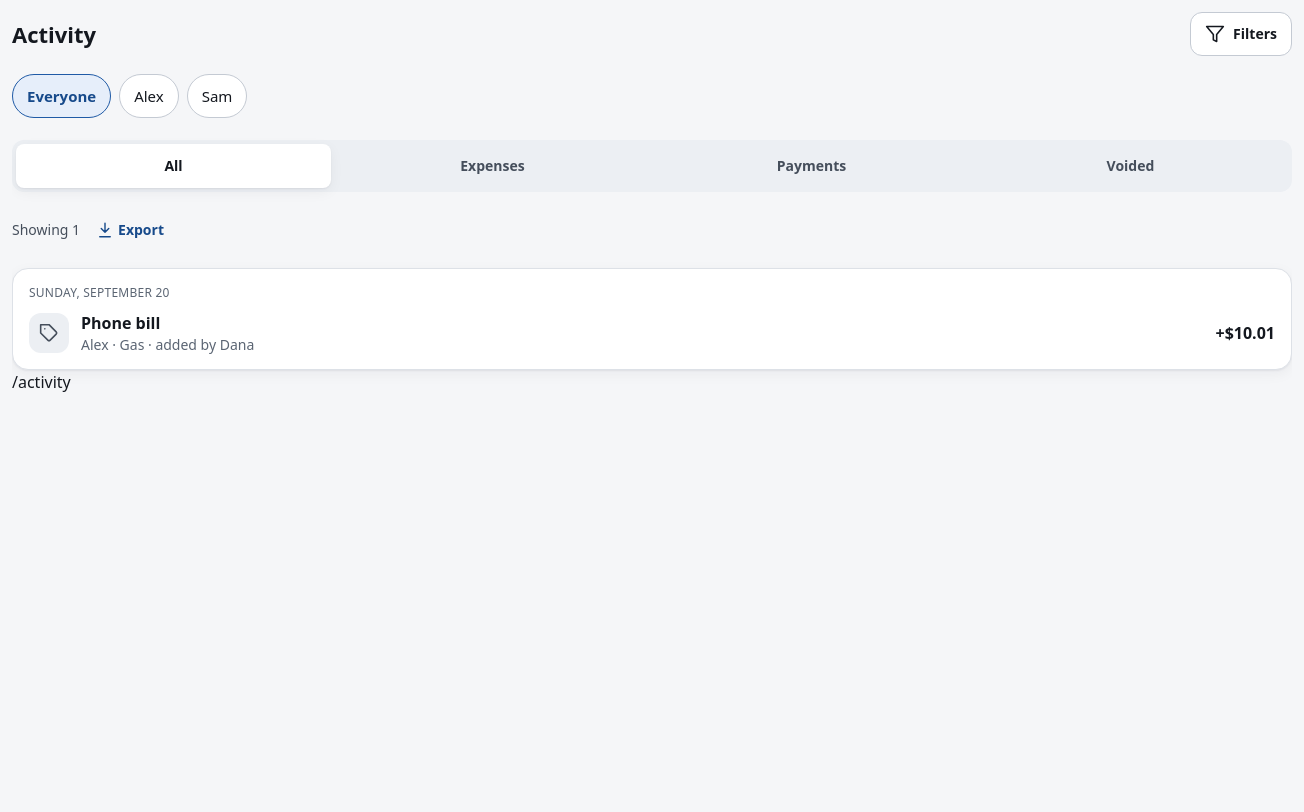
Scenario: ActivityPage as a Parent › shows the void RPC's own error and lets the parent try again
The image size is (1304, 812).
Step 1. Click the button "Phone bill Alex · Gas · added by Dana +$10.01" → [49, 333], box [29, 301, 1275, 365]
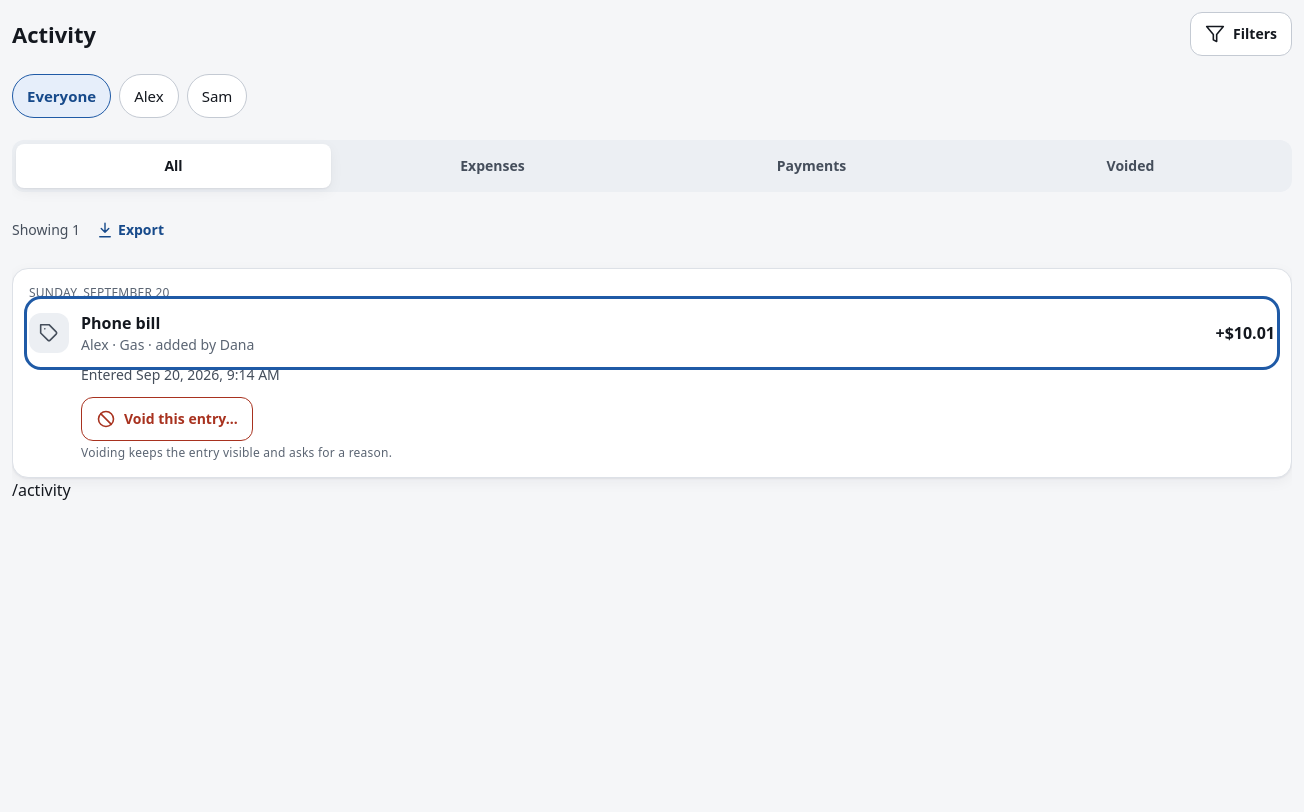
Step 2. Click the button "Void this entry…" → [167, 419], box [81, 397, 253, 441]
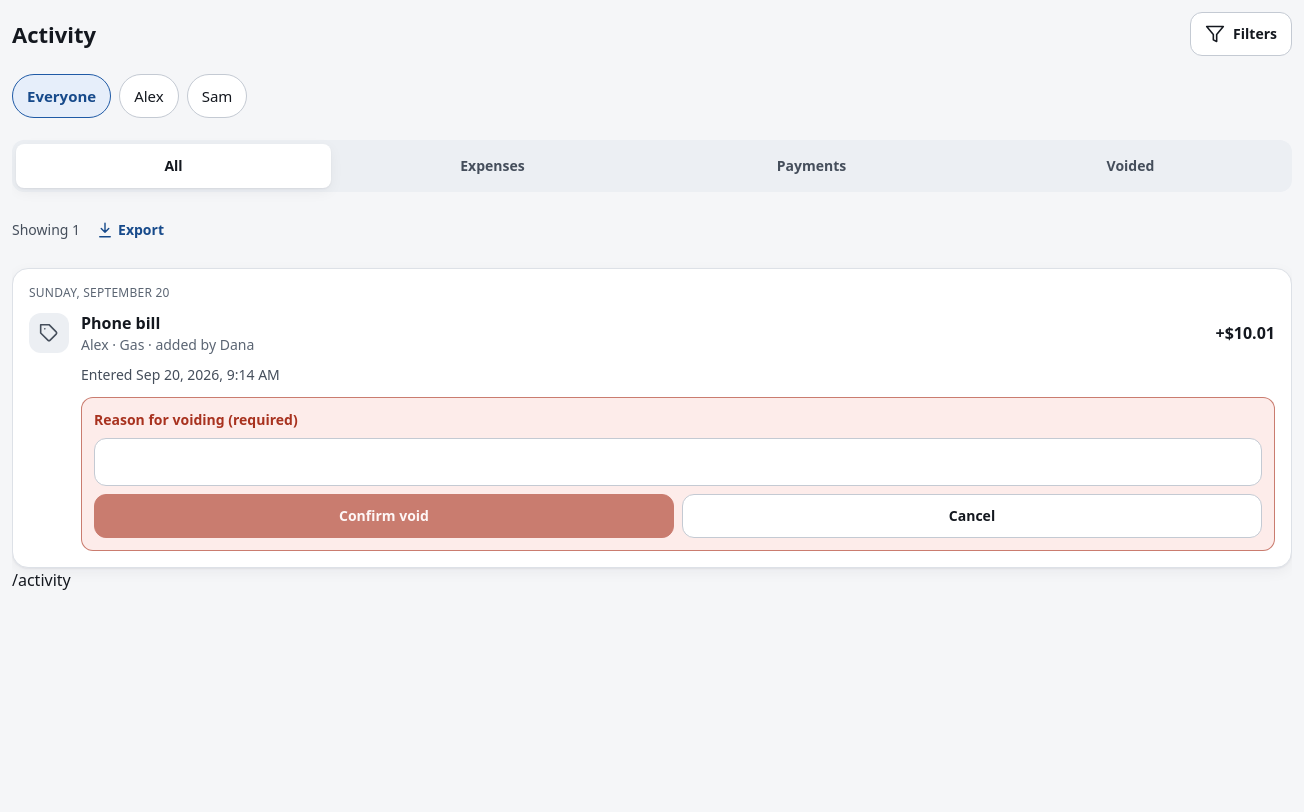
Step 3. Type "Dup" into the field labelled "Reason for voiding (required)" → [678, 462], box [94, 438, 1262, 486]
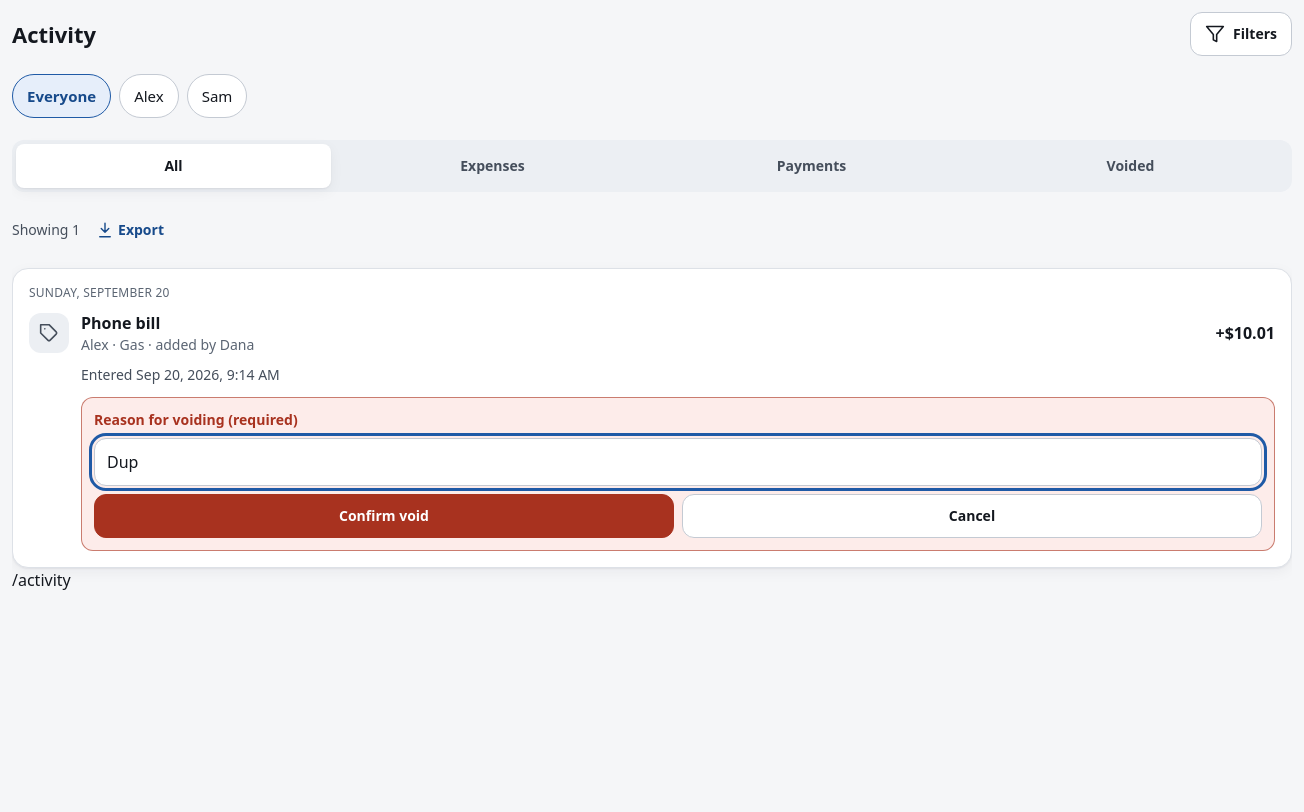
Step 4. Click the button "Confirm void" → [384, 516], box [94, 494, 674, 538]
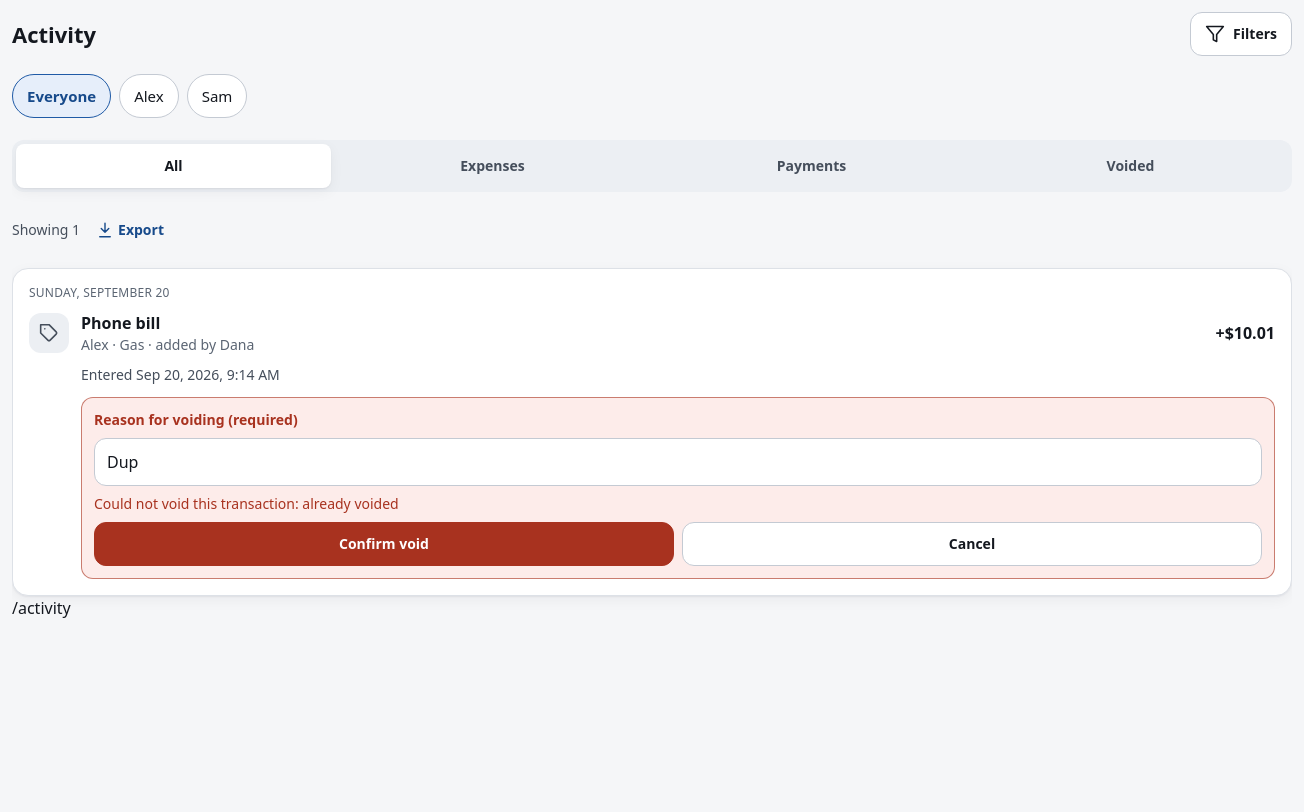
Result: the button "Confirm void" is enabled at [94, 522, 674, 566]
Result: the message reads "Could not void this transaction: already voided" at [94, 494, 399, 513]
